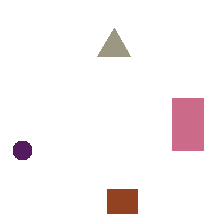circle: (13, 141, 31, 159)
rectangle: (172, 98, 203, 150), (107, 189, 137, 213)
triangle: (97, 28, 130, 56)
